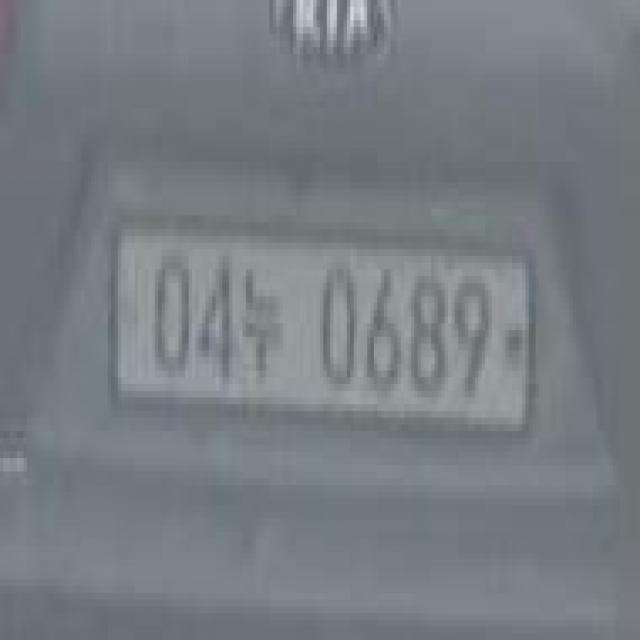illegal_plate: (106, 212, 538, 448)
